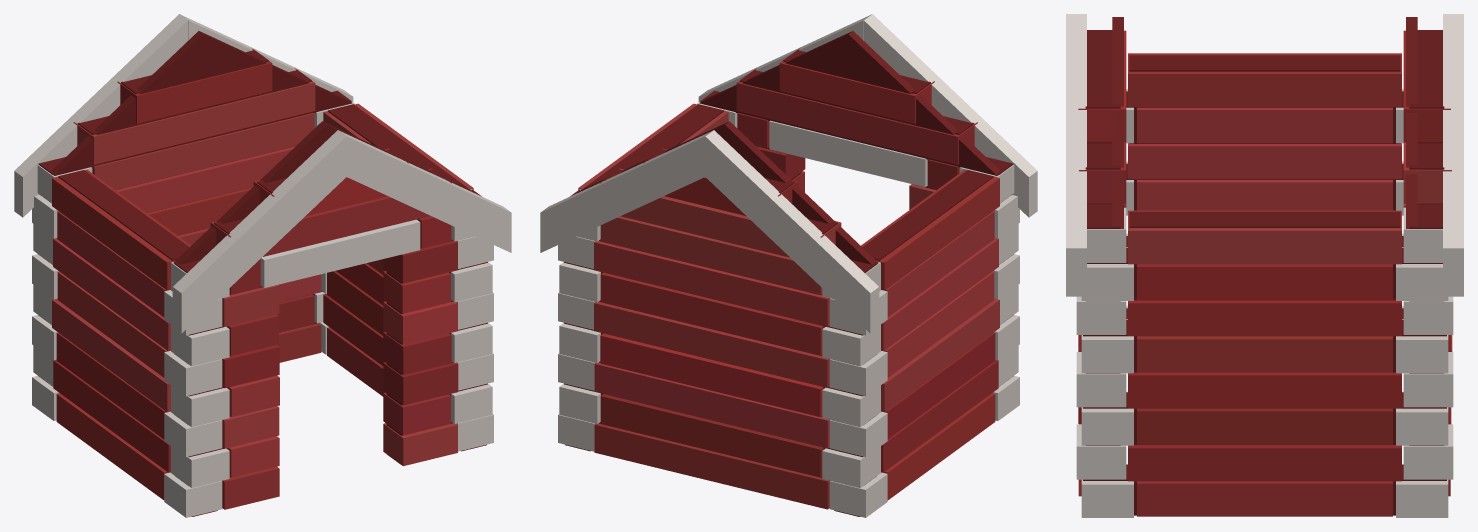
File: Shed_Walls.glb
3 renders of one model, left to right at view 1: azimuth 30°, elevation 25°; view 2: azimuth 150°, elevation 25°; view 3: azimuth 270°, elevation 25°, orthographic. The views are drawn at different scales.
Visible parts, largest first — view 1: Shed_Walls; view 2: Shed_Walls; view 3: Shed_Walls.
Boxes of the visible parts, x1,y1,x2,y2 form: Shed_Walls: (14,14,511,517); Shed_Walls: (540,14,1037,517); Shed_Walls: (1066,14,1463,517).
Size of the model in its own units: 9.8 by 9.92 by 8.6.
